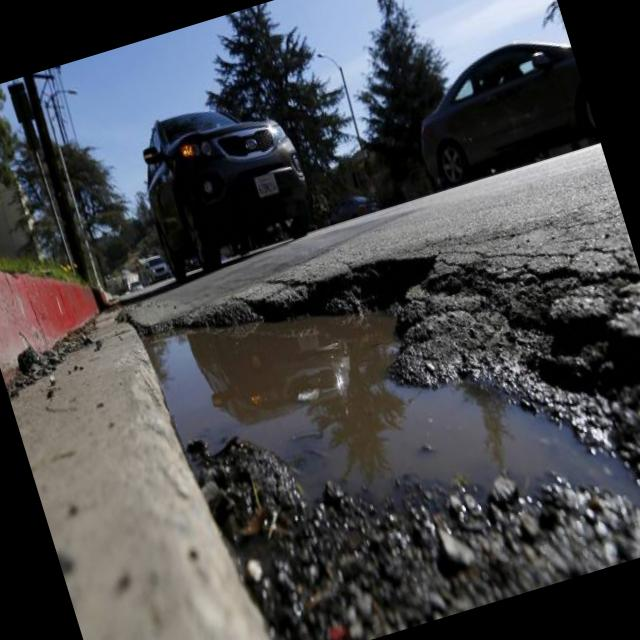Potholes: (114, 143, 640, 640)
